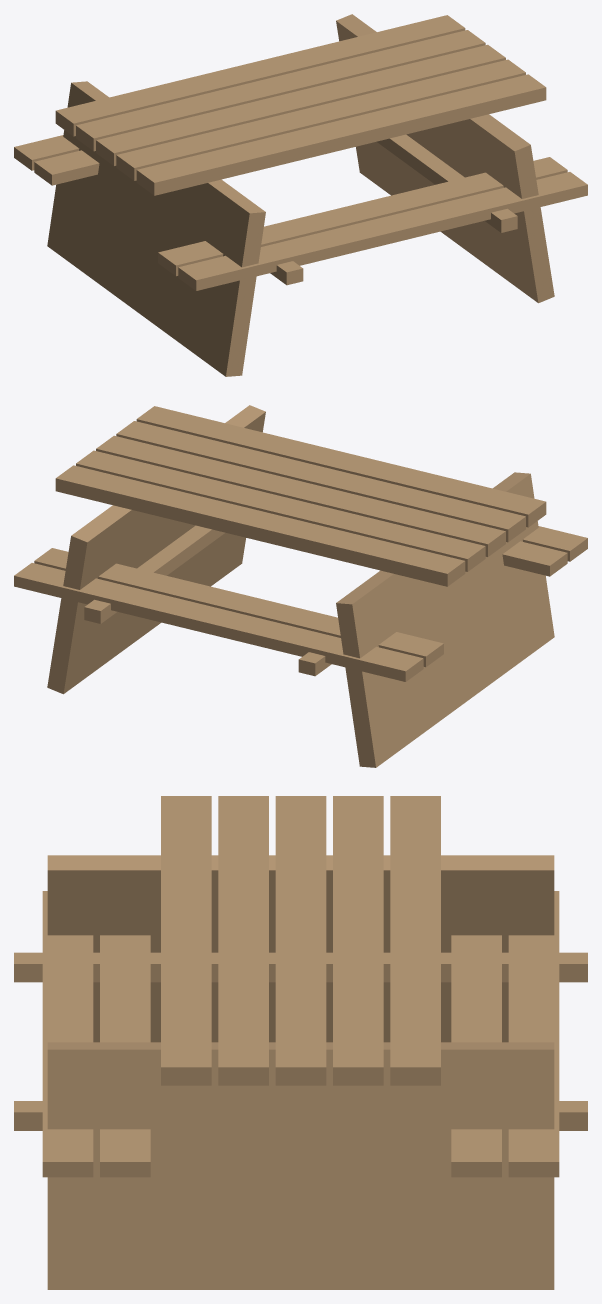
The model's file is golf-course-and-clubhouse-picnic-table-fd587154__33508.glb.
3 views of the same model, one above another, from view 1: azimuth 30°, elevation 25°; view 2: azimuth 150°, elevation 25°; view 3: azimuth 270°, elevation 25° (orthographic). The views are drawn at different scales.
Visible parts, largest first — view 1: picnic-table; view 2: picnic-table; view 3: picnic-table.
Boxes of the visible parts, box(x1,y1,x2,y2) form: picnic-table: box(14, 14, 587, 376); picnic-table: box(14, 405, 587, 767); picnic-table: box(14, 796, 587, 1289).
Bounding box in the file's own units: 1.9 × 0.8116 × 1.7.
